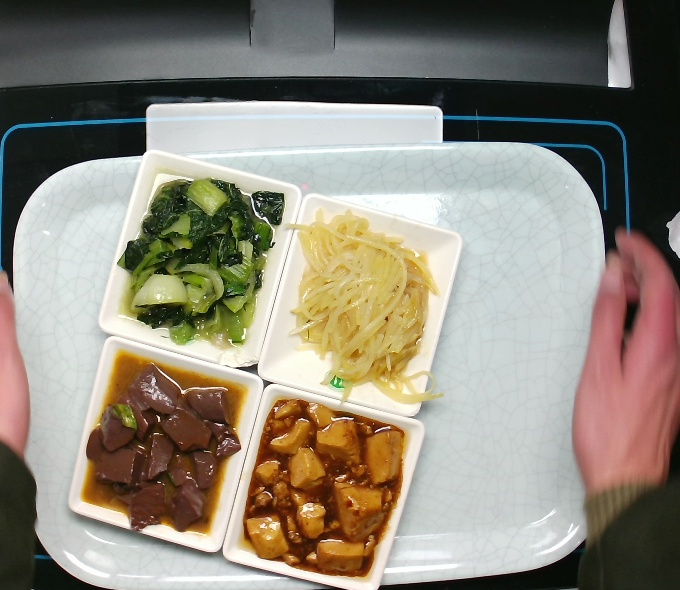wcq-MaPoDouFu: (245, 396, 402, 577)
wcq-NiuXue: (80, 367, 235, 536)
wcq-TuDouSi: (292, 221, 444, 389)
wcq-YouDongCai: (115, 168, 281, 344)
